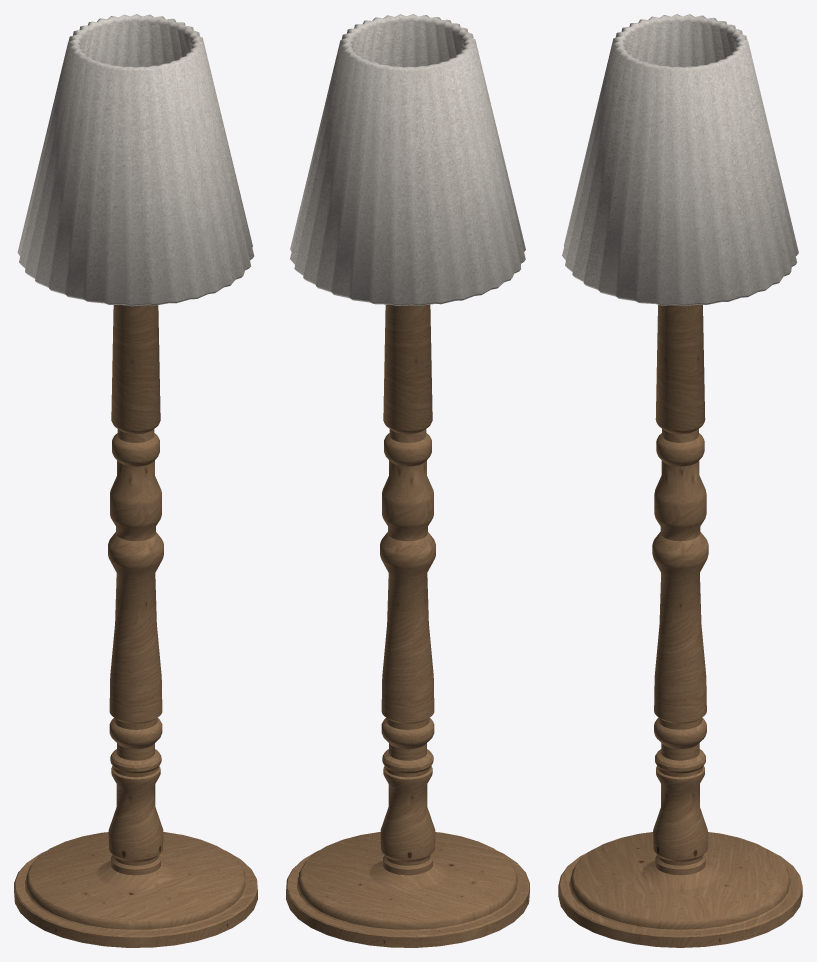
Rendered from FloorLamp.fbx.
3 views of the same model, side by side, from view 1: azimuth 30°, elevation 25°; view 2: azimuth 150°, elevation 25°; view 3: azimuth 270°, elevation 25° (orthographic).
Visible parts, largest first — view 1: Lamp; view 2: Lamp; view 3: Lamp.
Boxes of the visible parts, x1,y1,x2,y2 form: Lamp: (14,14,257,947); Lamp: (286,14,529,947); Lamp: (558,14,802,947).
Bounding box in the file's own units: 27.23 × 105 × 27.23.
Materials: 1 (1 with a texture image).
